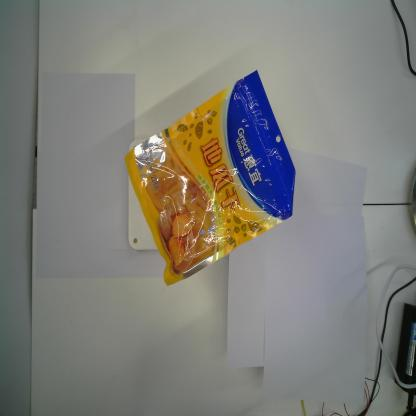Dried Fruit: (125, 70, 296, 286)
